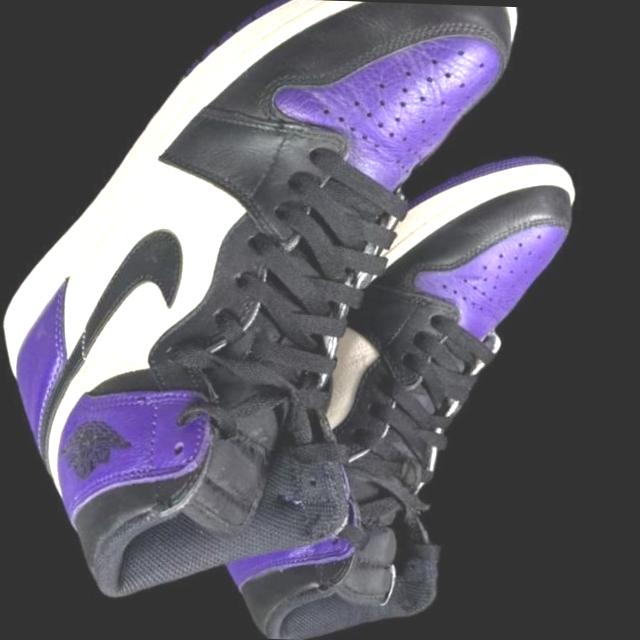nike_original_jordan: (0, 0, 640, 640), (102, 111, 640, 640)
